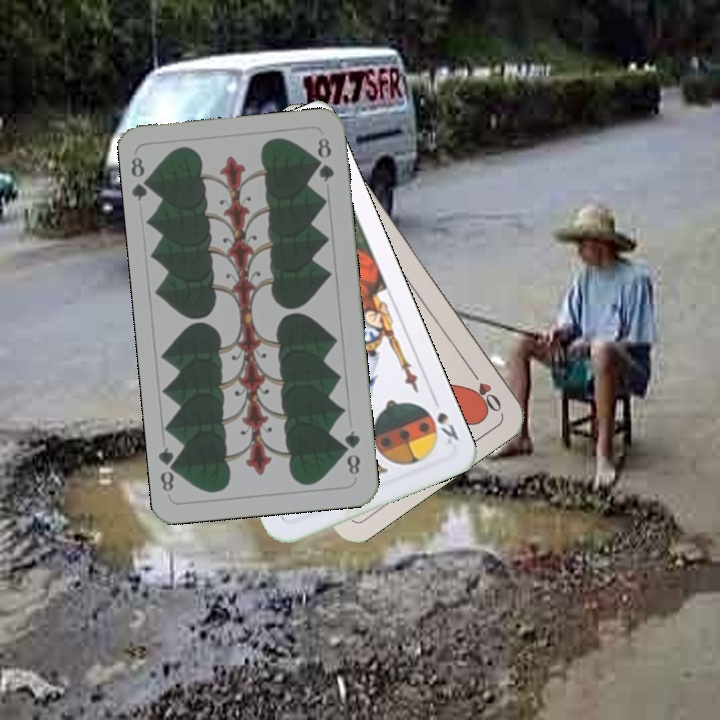G8: (127, 153, 156, 204), (339, 426, 363, 478)
HO: (464, 363, 505, 415)
SK: (432, 408, 462, 448)
